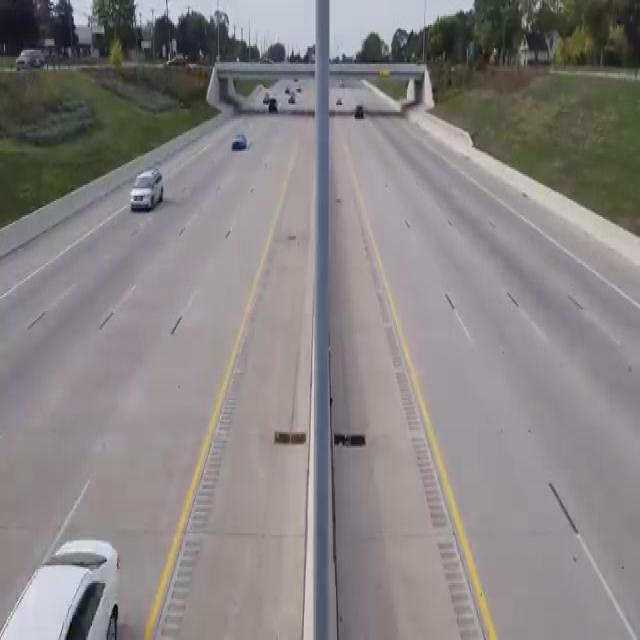car: (128, 168, 168, 216), (224, 129, 252, 155), (350, 99, 374, 120), (266, 97, 281, 113)
